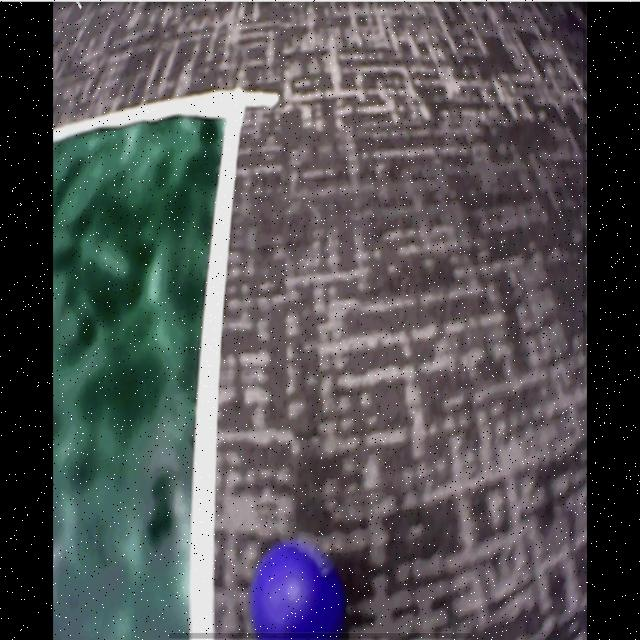ball: (251, 541, 344, 640)
